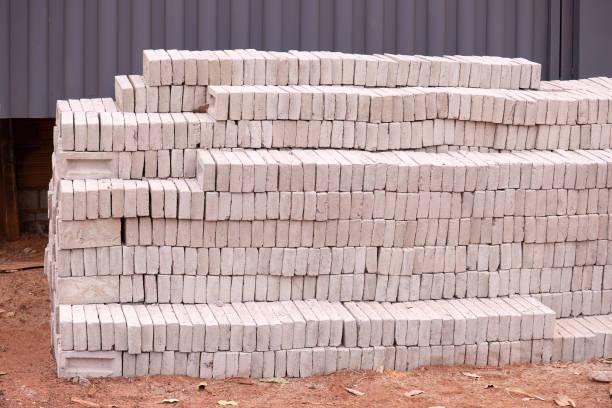Bricks: (58, 222, 121, 249), (58, 152, 120, 176), (62, 354, 122, 378), (61, 281, 120, 302), (503, 296, 543, 315), (360, 296, 390, 321), (434, 299, 467, 321), (564, 317, 595, 340), (469, 297, 500, 317), (294, 301, 319, 325), (555, 318, 584, 338), (280, 299, 304, 323), (233, 302, 258, 325), (459, 298, 486, 319), (344, 303, 375, 321), (221, 304, 244, 328), (402, 298, 428, 319), (290, 147, 326, 162), (447, 300, 475, 319), (142, 51, 158, 84), (363, 150, 396, 166), (376, 299, 400, 321), (246, 301, 267, 326), (116, 79, 134, 108), (481, 296, 508, 315), (469, 65, 492, 87), (258, 302, 281, 324), (308, 297, 329, 321), (374, 346, 394, 371), (360, 51, 395, 65), (208, 87, 226, 114), (525, 297, 552, 315), (444, 64, 466, 86), (321, 299, 343, 321), (195, 302, 216, 325), (388, 302, 412, 322), (331, 303, 356, 322), (452, 149, 475, 169), (588, 315, 611, 335), (495, 296, 519, 315), (282, 118, 298, 146), (169, 48, 183, 80), (158, 303, 179, 324), (208, 300, 228, 322), (274, 302, 294, 324), (173, 303, 192, 326), (171, 249, 186, 278), (319, 57, 334, 86), (434, 148, 461, 164), (578, 316, 602, 334), (157, 244, 171, 274), (238, 123, 253, 151), (572, 150, 604, 163), (396, 150, 420, 167), (265, 83, 302, 94), (585, 241, 600, 268), (182, 51, 194, 84), (114, 325, 128, 353), (191, 325, 205, 353), (381, 92, 395, 120), (422, 95, 439, 118), (327, 148, 350, 165), (326, 347, 339, 377), (521, 190, 536, 216), (251, 58, 266, 84), (275, 147, 301, 162), (592, 165, 610, 186), (345, 150, 372, 164), (305, 164, 318, 193), (86, 325, 101, 350), (100, 325, 115, 350), (121, 243, 133, 274), (388, 64, 404, 87), (136, 303, 152, 326), (599, 334, 612, 362), (133, 246, 146, 274), (107, 305, 126, 324), (122, 305, 141, 324), (303, 324, 318, 348), (128, 325, 140, 355), (147, 245, 159, 275), (411, 244, 423, 274), (561, 242, 576, 266), (233, 147, 253, 165), (59, 304, 76, 325), (221, 248, 234, 275), (171, 275, 184, 302), (444, 248, 457, 275), (407, 61, 420, 88), (417, 344, 431, 369), (238, 221, 252, 246), (207, 247, 221, 272), (279, 275, 293, 300), (492, 216, 504, 245), (391, 123, 403, 152), (407, 96, 422, 119), (184, 305, 203, 323), (95, 246, 106, 277), (280, 162, 291, 193), (472, 149, 492, 166), (155, 325, 168, 351), (58, 251, 71, 277), (175, 123, 188, 149), (252, 353, 264, 381), (287, 350, 299, 378), (299, 349, 311, 377), (219, 190, 231, 218), (291, 162, 303, 190), (520, 241, 532, 269), (519, 150, 547, 162), (289, 277, 304, 299), (403, 246, 414, 276), (149, 303, 164, 325), (140, 326, 153, 351), (299, 222, 312, 247), (298, 122, 311, 147), (369, 96, 382, 121), (74, 322, 86, 349), (231, 191, 243, 218), (328, 194, 340, 221), (265, 221, 277, 248), (219, 277, 231, 304), (454, 162, 466, 189), (477, 245, 489, 272), (342, 122, 354, 149), (160, 177, 178, 195), (395, 321, 409, 344), (533, 218, 547, 241), (95, 304, 111, 324), (313, 347, 324, 376), (341, 245, 352, 274), (405, 193, 416, 222), (382, 322, 395, 346), (289, 221, 301, 247), (234, 249, 246, 275), (488, 166, 501, 190), (355, 123, 368, 147), (278, 61, 290, 87), (298, 59, 310, 85), (500, 63, 512, 89), (514, 89, 538, 102), (492, 152, 516, 165), (557, 211, 567, 242), (391, 246, 401, 277), (260, 118, 270, 149), (308, 118, 318, 149), (161, 53, 171, 84), (227, 354, 238, 382), (531, 338, 542, 366), (207, 325, 218, 353), (305, 194, 316, 222), (423, 244, 434, 272), (183, 149, 194, 177), (61, 126, 75, 148), (511, 62, 522, 90), (316, 85, 344, 96), (197, 148, 216, 164), (277, 349, 287, 379), (253, 220, 265, 245), (375, 162, 387, 187), (441, 165, 453, 190), (87, 125, 99, 150), (162, 123, 174, 148), (272, 117, 282, 147), (193, 83, 205, 108), (421, 123, 434, 146), (314, 94, 327, 117), (221, 83, 244, 96), (267, 149, 290, 162), (169, 324, 180, 351), (241, 191, 252, 218), (305, 246, 316, 273), (447, 218, 458, 245), (310, 56, 321, 83), (351, 192, 365, 213), (220, 150, 241, 164), (317, 149, 338, 163), (190, 222, 200, 251), (351, 161, 361, 190), (212, 147, 229, 164), (329, 246, 341, 270), (600, 97, 612, 121), (136, 77, 145, 109), (169, 86, 181, 110), (189, 352, 200, 378), (208, 193, 219, 219), (268, 193, 279, 219), (109, 250, 122, 272), (193, 277, 204, 303), (244, 276, 255, 302), (329, 277, 340, 303), (439, 193, 450, 219), (500, 243, 511, 269), (511, 242, 522, 268), (599, 240, 612, 262), (158, 152, 169, 178), (225, 122, 236, 148), (321, 121, 332, 147), (545, 99, 558, 121), (230, 94, 241, 120), (244, 94, 255, 120), (269, 95, 280, 121), (203, 351, 213, 379), (221, 163, 231, 191), (172, 149, 181, 180), (175, 355, 187, 378), (219, 324, 231, 347), (83, 252, 95, 275), (553, 245, 565, 268), (410, 279, 422, 302), (600, 124, 612, 147), (363, 348, 374, 373), (315, 196, 326, 221), (187, 250, 198, 275), (352, 247, 363, 272), (206, 164, 217, 189), (146, 150, 157, 175), (332, 121, 343, 146), (359, 96, 370, 121), (302, 275, 315, 296), (365, 275, 378, 296), (354, 60, 367, 81), (426, 302, 443, 318), (431, 320, 441, 347), (182, 324, 192, 351), (176, 221, 186, 248), (317, 164, 327, 191), (342, 162, 351, 192), (376, 191, 386, 218), (120, 153, 130, 180), (127, 126, 137, 153), (534, 316, 548, 335), (246, 151, 265, 165), (587, 339, 599, 361), (359, 321, 371, 343), (333, 322, 344, 346), (294, 324, 305, 348), (256, 326, 268, 348), (112, 192, 123, 216), (129, 222, 141, 244), (206, 277, 217, 301), (547, 191, 558, 215), (379, 249, 390, 273), (445, 275, 456, 299), (487, 271, 499, 293), (601, 289, 612, 313), (526, 123, 537, 147), (588, 97, 599, 121), (268, 62, 280, 84), (422, 62, 433, 86), (527, 61, 539, 83), (329, 163, 338, 192), (461, 218, 470, 247), (164, 351, 174, 377), (408, 347, 418, 373), (276, 221, 286, 247), (313, 223, 326, 243), (256, 272, 266, 298), (343, 277, 353, 303), (360, 221, 370, 247), (557, 189, 567, 215), (407, 225, 420, 245), (569, 99, 579, 125), (396, 95, 406, 121), (183, 86, 193, 112), (249, 85, 275, 95), (547, 150, 567, 163), (214, 356, 225, 379), (351, 348, 362, 371), (293, 194, 304, 217), (140, 221, 151, 244), (145, 277, 156, 300), (591, 290, 602, 313), (433, 120, 444, 143), (569, 127, 580, 150), (515, 101, 526, 124), (336, 95, 347, 118), (344, 61, 355, 84), (73, 249, 82, 277), (420, 165, 432, 186), (203, 120, 212, 148), (389, 151, 407, 165), (552, 337, 562, 362), (372, 320, 382, 345), (233, 325, 243, 350), (167, 192, 177, 217), (256, 194, 266, 219), (296, 248, 306, 273), (232, 165, 242, 190), (432, 167, 442, 192), (483, 190, 493, 215), (258, 93, 268, 118), (231, 60, 241, 85), (290, 60, 300, 85), (519, 61, 529, 86), (539, 89, 564, 99), (320, 246, 328, 277), (460, 243, 468, 274), (180, 193, 189, 220), (159, 276, 168, 303), (398, 166, 407, 193), (589, 213, 598, 240), (101, 123, 110, 150), (253, 122, 262, 149), (370, 123, 379, 150), (245, 326, 256, 348), (247, 250, 258, 272), (532, 246, 543, 268), (368, 65, 379, 87), (125, 353, 135, 377), (263, 351, 273, 375), (345, 324, 355, 348), (197, 250, 207, 274), (363, 248, 373, 272), (554, 163, 564, 187), (602, 213, 612, 237), (592, 268, 604, 288), (588, 123, 598, 147), (543, 338, 552, 364), (468, 319, 477, 345), (320, 321, 329, 347), (62, 324, 71, 350), (76, 194, 85, 220), (379, 274, 388, 300), (403, 122, 411, 151), (382, 87, 411, 95), (151, 125, 162, 146), (154, 192, 164, 215), (132, 277, 142, 300), (245, 166, 255, 189), (408, 167, 418, 190), (478, 169, 488, 192), (453, 193, 463, 216), (602, 190, 612, 213), (485, 97, 495, 120), (242, 61, 252, 84), (527, 89, 550, 99), (74, 109, 86, 128), (206, 222, 215, 247), (354, 275, 363, 300), (495, 189, 504, 214), (579, 190, 588, 215), (482, 218, 491, 243), (514, 215, 523, 240), (579, 215, 588, 240), (214, 123, 223, 148), (560, 123, 569, 148), (335, 59, 344, 84), (570, 89, 595, 98), (139, 190, 147, 218), (426, 218, 434, 246), (505, 215, 513, 243), (525, 218, 533, 246), (545, 243, 553, 271), (61, 109, 75, 125), (397, 347, 407, 369), (465, 344, 475, 366), (500, 344, 510, 366), (512, 341, 522, 363), (501, 316, 511, 338), (232, 278, 242, 300), (233, 83, 253, 94), (359, 86, 381, 96), (514, 184, 521, 215), (125, 191, 134, 215), (229, 222, 238, 246), (266, 164, 275, 188), (427, 193, 436, 217), (469, 270, 478, 294), (291, 94, 300, 118), (210, 61, 219, 85), (288, 50, 312, 59), (255, 150, 273, 162), (72, 306, 84, 324), (85, 306, 97, 324), (338, 222, 348, 243), (259, 251, 269, 272), (268, 247, 278, 268), (435, 244, 442, 274), (551, 294, 561, 315), (440, 96, 451, 115), (286, 248, 294, 274), (269, 276, 277, 302), (390, 165, 398, 191), (537, 189, 545, 215), (499, 271, 507, 297), (280, 93, 288, 119), (85, 111, 98, 127), (174, 180, 190, 193), (338, 347, 347, 370), (326, 221, 335, 244), (380, 125, 389, 148), (538, 127, 547, 150), (460, 95, 469, 118), (380, 63, 389, 86), (289, 84, 312, 93), (300, 85, 323, 94), (315, 278, 327, 295), (239, 356, 247, 381), (522, 340, 530, 365), (564, 337, 572, 362), (409, 321, 417, 346), (281, 194, 289, 219), (168, 219, 176, 244), (522, 166, 530, 191), (437, 221, 445, 246), (390, 275, 398, 300), (412, 123, 420, 148), (550, 127, 560, 147), (451, 95, 459, 120), (302, 92, 310, 117), (350, 93, 358, 118), (435, 59, 443, 84), (152, 354, 161, 376), (488, 343, 497, 365), (576, 341, 585, 363), (457, 322, 466, 344), (420, 321, 429, 343), (101, 193, 110, 215), (505, 190, 514, 212), (569, 218, 578, 240), (465, 123, 474, 145), (578, 125, 587, 147), (579, 102, 588, 124), (491, 65, 500, 87), (222, 48, 240, 59), (59, 180, 77, 191), (419, 190, 426, 218), (490, 318, 498, 342), (478, 317, 486, 341), (351, 223, 359, 247), (467, 166, 475, 190), (570, 266, 578, 290), (504, 99, 512, 123), (146, 89, 154, 113), (111, 111, 127, 123), (272, 328, 282, 347), (190, 125, 200, 144), (183, 111, 202, 121), (548, 313, 555, 340), (89, 192, 96, 219), (193, 194, 202, 215), (366, 164, 373, 191), (567, 167, 576, 188), (549, 214, 556, 241), (577, 241, 586, 262), (136, 150, 143, 177), (77, 128, 86, 149), (112, 124, 119, 151), (122, 277, 130, 300), (490, 246, 498, 269), (563, 294, 571, 317), (444, 321, 451, 347), (472, 218, 479, 244), (160, 111, 173, 125), (580, 268, 589, 288), (139, 354, 147, 376), (341, 195, 349, 217), (433, 275, 441, 297), (476, 122, 484, 144), (513, 315, 520, 340), (219, 221, 226, 246), (465, 190, 472, 215), (532, 269, 539, 294), (496, 98, 503, 123), (327, 95, 334, 120), (332, 86, 357, 93), (510, 271, 519, 290), (244, 49, 263, 58), (444, 346, 454, 363), (171, 113, 188, 123), (522, 317, 530, 338), (284, 327, 292, 348), (155, 219, 161, 247), (544, 167, 552, 188), (396, 193, 402, 221), (422, 275, 429, 299), (482, 272, 489, 296), (455, 122, 462, 146), (538, 102, 546, 123), (124, 111, 138, 123), (139, 109, 150, 124), (64, 196, 71, 219), (186, 280, 193, 303), (579, 166, 586, 189), (389, 196, 396, 219), (523, 271, 530, 294), (139, 127, 146, 150), (526, 101, 533, 124), (560, 100, 567, 123), (200, 58, 207, 81), (591, 191, 599, 211), (386, 221, 392, 247), (478, 190, 484, 216), (447, 117, 453, 143), (598, 315, 611, 327), (569, 190, 576, 212), (456, 275, 463, 297), (111, 180, 125, 191), (432, 346, 440, 365), (456, 346, 464, 365), (508, 167, 516, 186), (470, 246, 476, 271), (401, 277, 407, 302), (224, 59, 230, 84), (99, 176, 109, 191), (500, 165, 507, 186), (542, 268, 549, 289), (473, 97, 481, 115), (164, 88, 170, 112), (374, 219, 379, 247), (516, 129, 523, 149), (534, 164, 540, 187), (583, 290, 589, 313), (479, 346, 485, 368), (507, 125, 513, 147), (74, 181, 85, 193), (86, 180, 98, 191), (368, 193, 373, 219), (553, 271, 559, 292), (259, 165, 264, 189), (488, 126, 494, 146), (498, 126, 504, 146), (99, 111, 109, 123), (134, 180, 149, 188), (398, 224, 403, 247), (565, 271, 570, 293), (351, 87, 362, 97), (422, 217, 426, 244), (575, 295, 581, 313), (152, 113, 162, 123), (150, 180, 160, 190), (123, 182, 134, 191), (541, 294, 550, 304)
